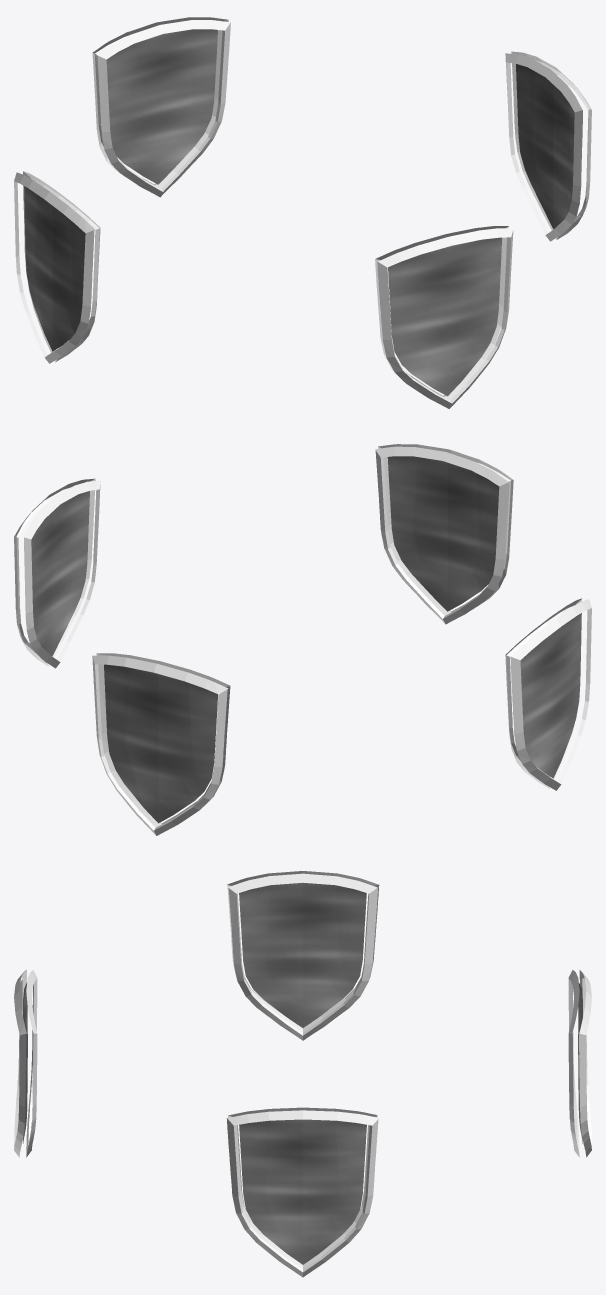
The model's file is p_FX_buildingShield.fbx.
3 views of the same model, one above another, from view 1: azimuth 30°, elevation 25°; view 2: azimuth 150°, elevation 25°; view 3: azimuth 270°, elevation 25° (orthographic). The views are drawn at different scales.
Parts seen in each view (by area): view 1: polySurface35 (×4); view 2: polySurface35 (×4); view 3: polySurface35 (×4).
Part boxes in pixels (x1,y1,x2,y2): polySurface35 (×4): [14, 17, 591, 408]; polySurface35 (×4): [14, 444, 591, 835]; polySurface35 (×4): [14, 871, 591, 1277].
Size of the model in its own units: 12.18 by 4.08 by 12.18.
Materials: 1 (1 with a texture image).
